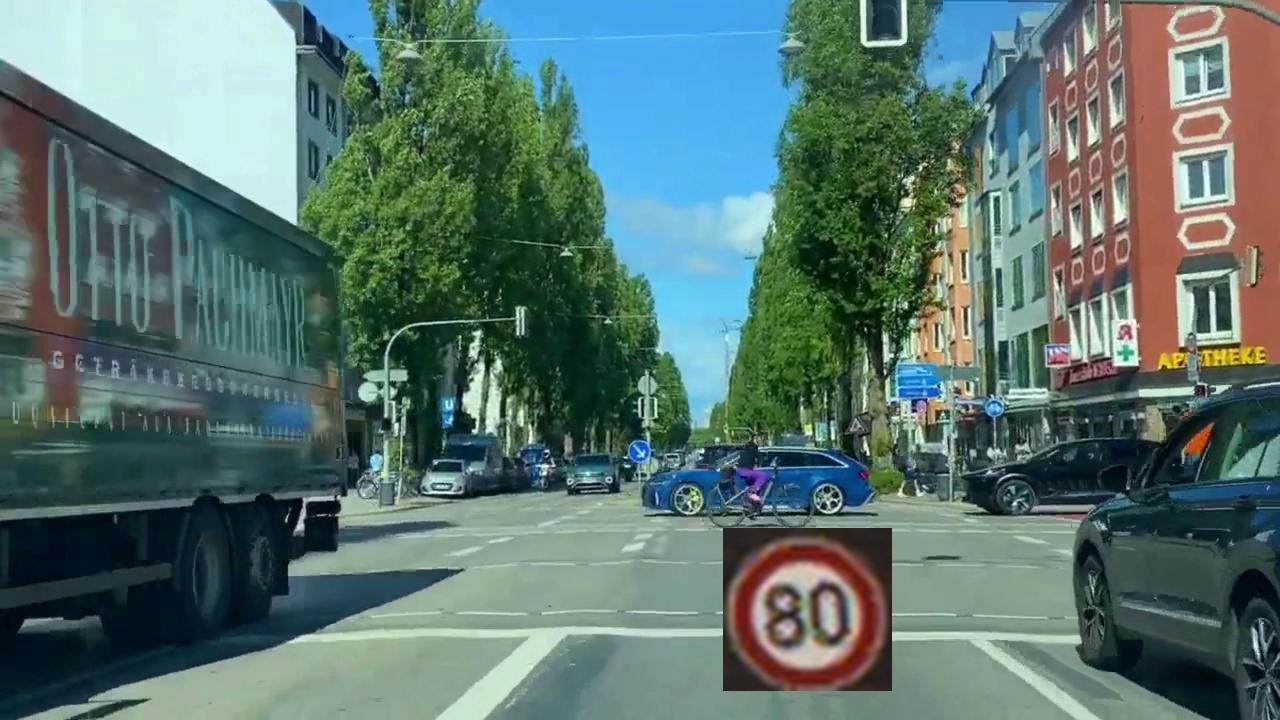Speed 80: (723, 528, 892, 691)
